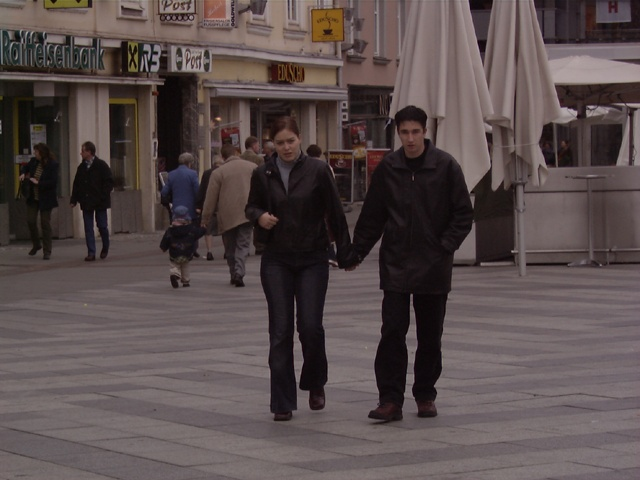person: (356, 103, 477, 424), (243, 112, 346, 421), (160, 146, 208, 265), (69, 139, 114, 261), (19, 140, 60, 259)
